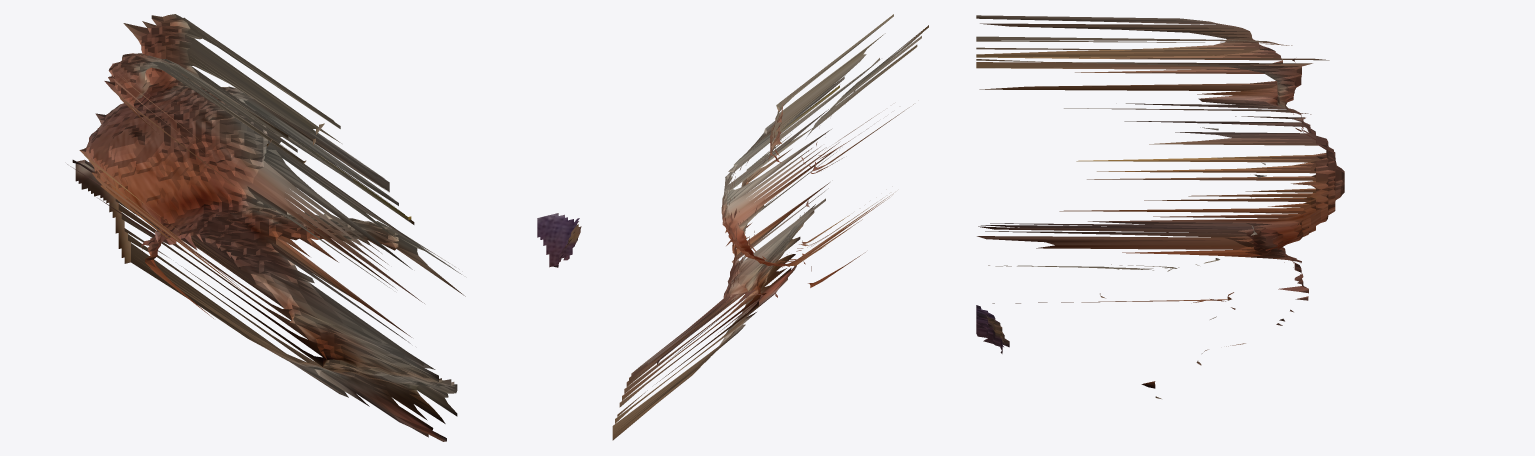
File: frame_00315.glb
3 renders of one model, left to right at view 1: azimuth 30°, elevation 25°; view 2: azimuth 150°, elevation 25°; view 3: azimuth 270°, elevation 25°, orthographic. The views are drawn at different scales.
Parts seen in each view (by area): view 1: geometry_0; view 2: geometry_0; view 3: geometry_0.
Boxes of the visible parts, x1,y1,x2,y2 form: geometry_0: (67, 14, 581, 441); geometry_0: (612, 14, 928, 440); geometry_0: (976, 15, 1344, 398).
Bounding box in the file's own units: 0.107 × 0.1144 × 0.16.
Materials: 1 (1 with a texture image).
